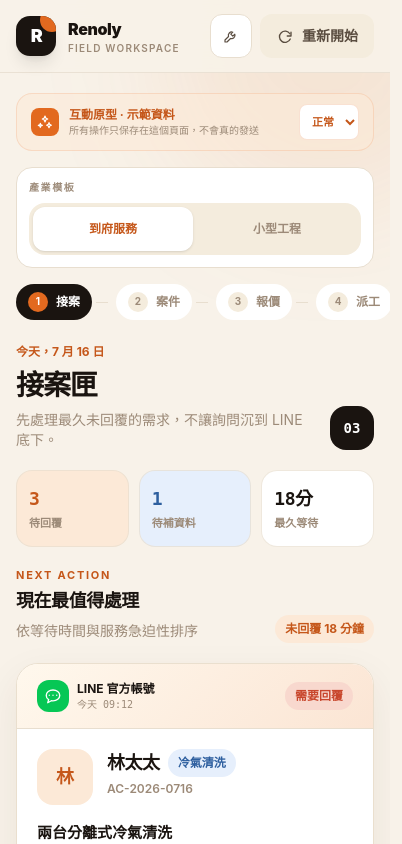
Scenario: DemoApp › switches to the small-project fixture from the mobile template control
This screenshot has width=402, height=844.
Expected: the element named "選擇示範模板" is shown, [29,203,361,255]
Step 1. Click the button "小型工程" → (277,229), box [197,207,357,251]
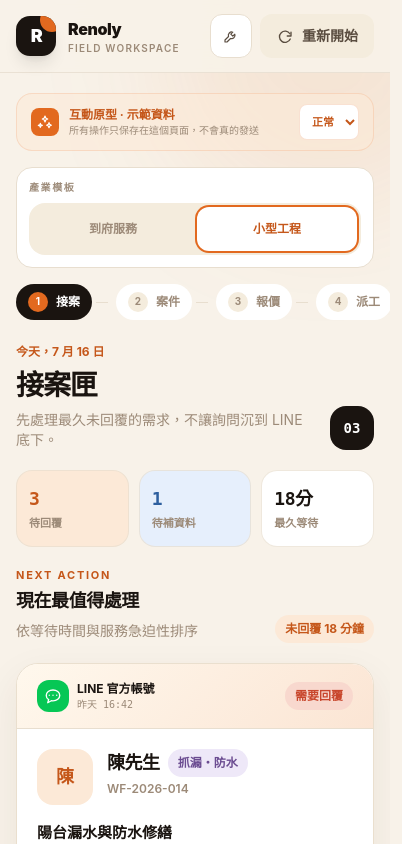
Now the text "陽台漏水與防水修繕" is shown, box [37,823,172,842]
Now the text "抓漏・防水" is shown, box [168,749,248,777]
